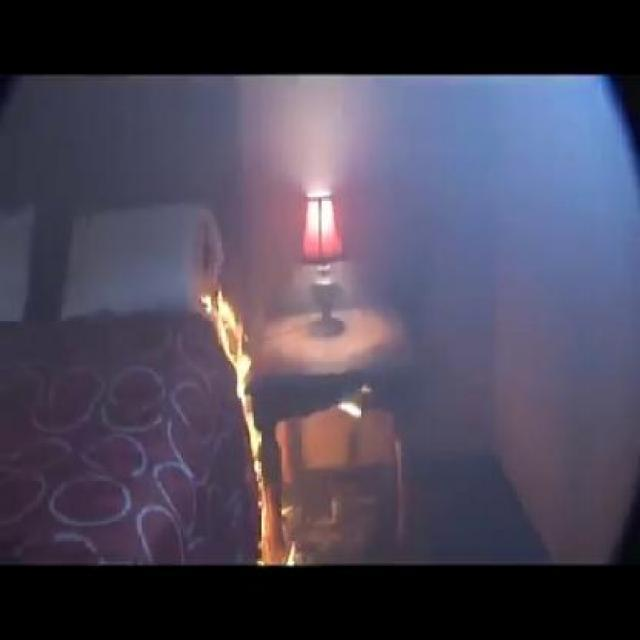fire: (200, 284, 300, 564)
